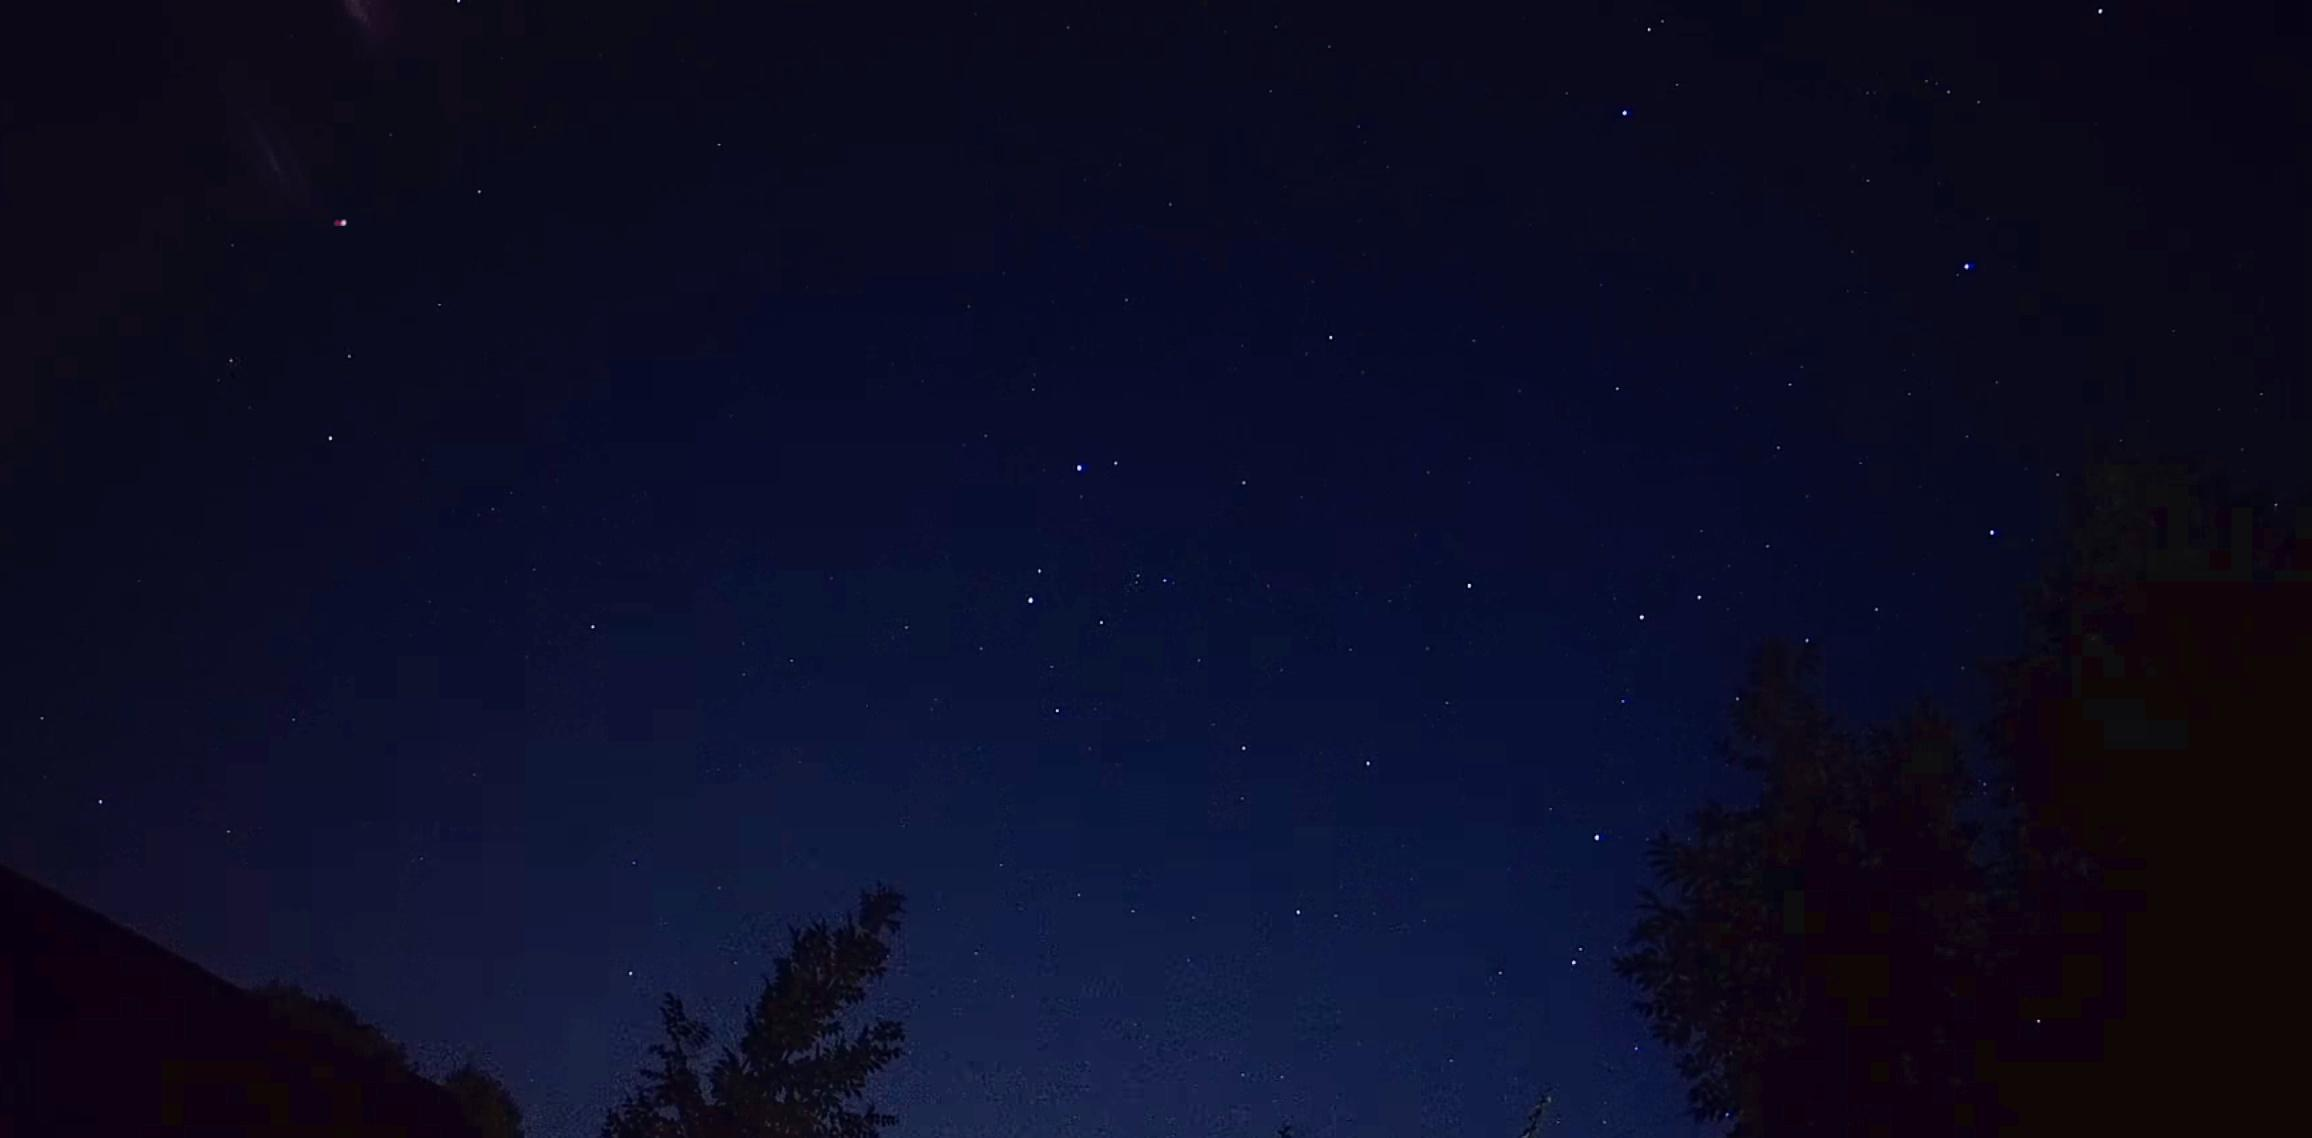Plane: (321, 196, 369, 243)
